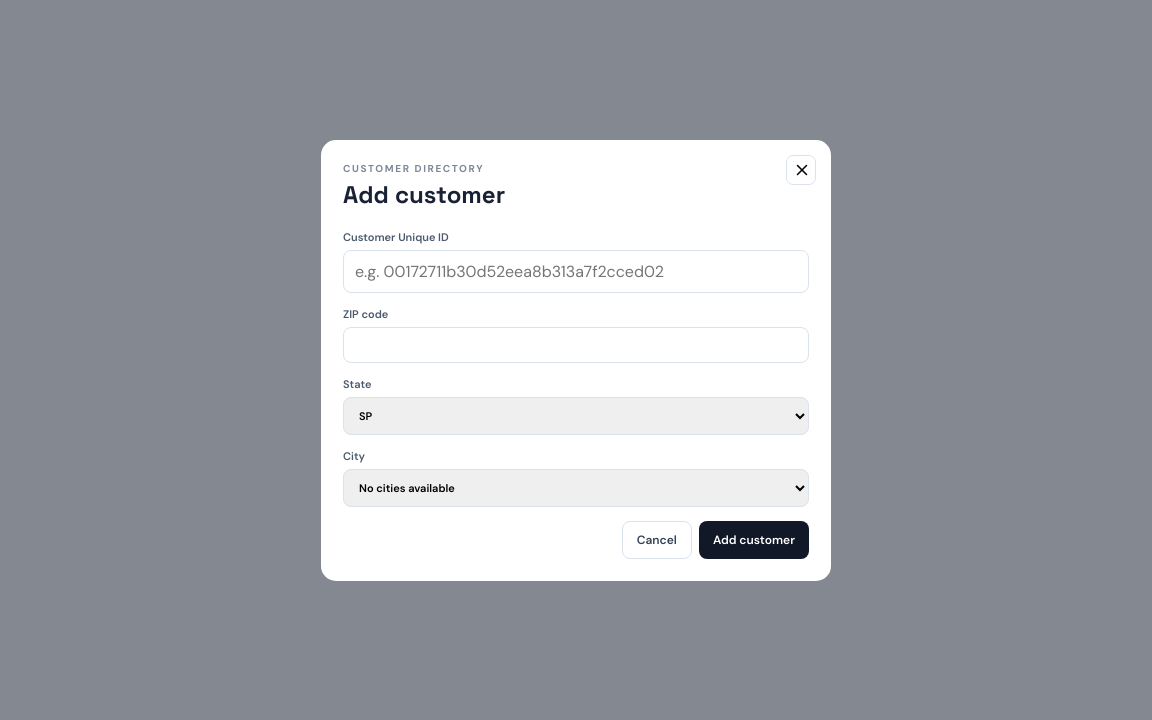
Test: CustomerModal Component › validates zip code and city errors
// Provide UID
Type "uid_new_123" into the field with placeholder "e.g. 00172711b30d52eea8b313a7f2cced02".
click(576, 271); type("uid_new_123")  # box [343,250,809,292]
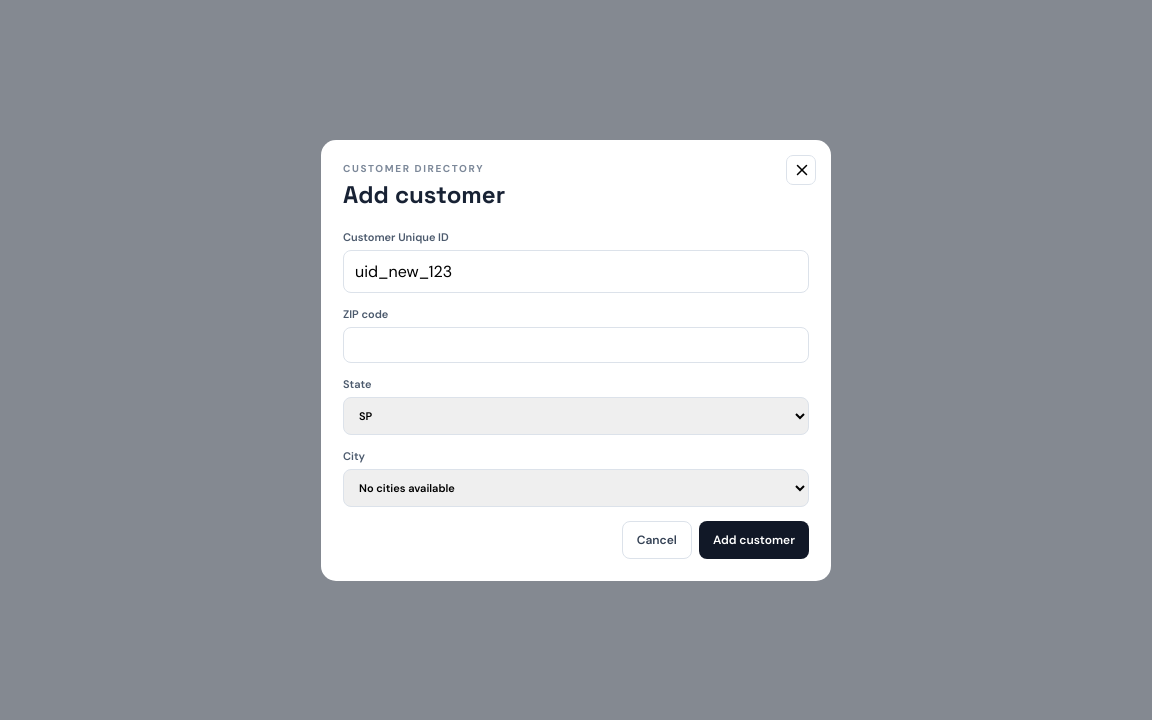
// Empty zip
Submit the form with class "modal", box [321,140,831,580]
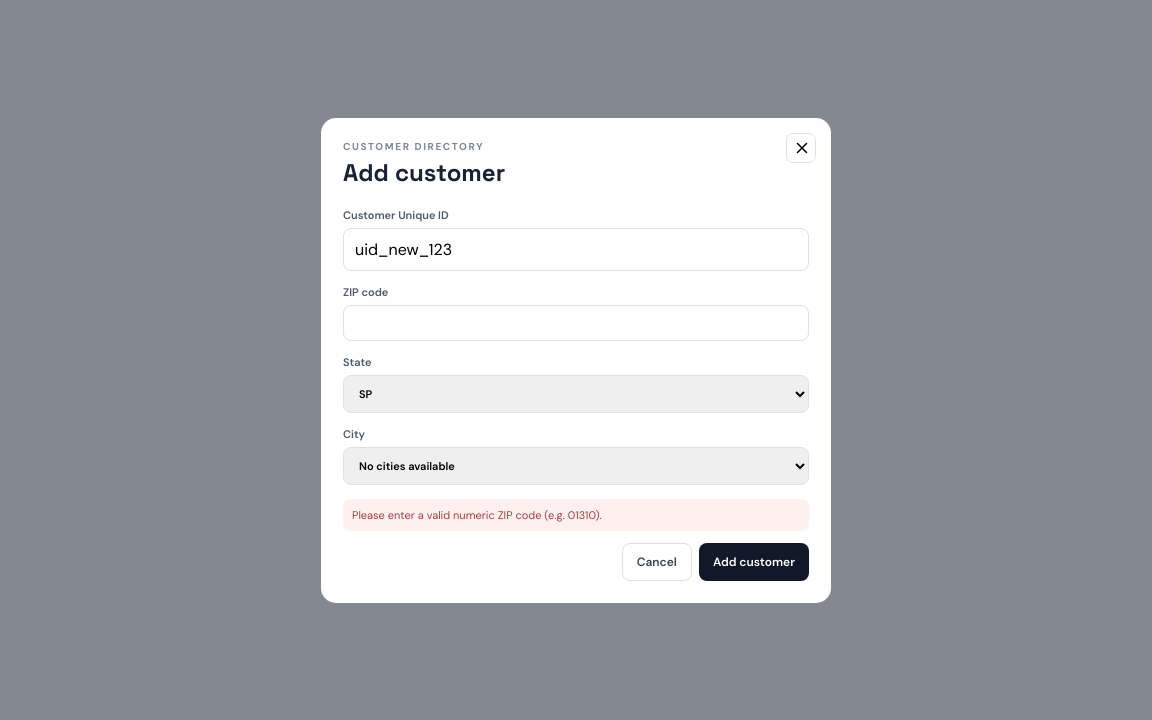
Expected: the text "Please enter a valid numeric ZIP code (e.g. 01310)." is shown, [343,498,809,530]
// Out-of-bounds zip
Type "1000000" into the field labelled "ZIP code".
click(576, 322); type("1000000")  # box [343,304,809,340]
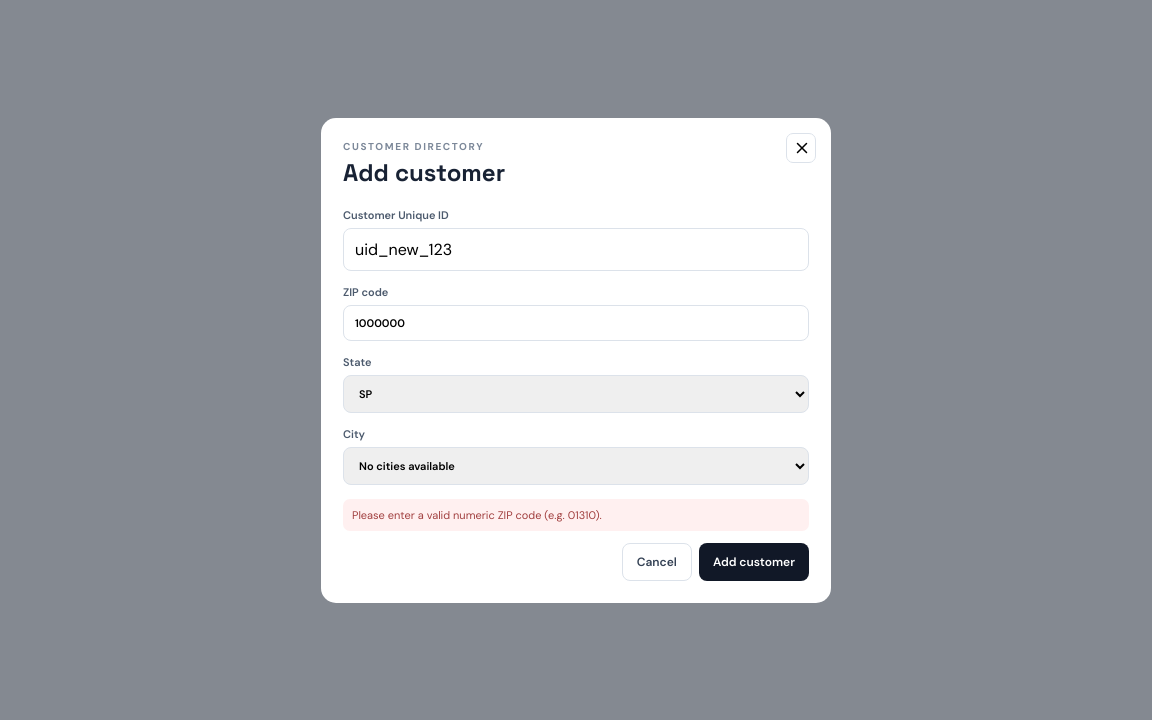
Submit the form with class "modal", box [321,118,831,602]
Expected: the text "Please enter a valid numeric ZIP code (e.g. 01310)." is shown, [343,498,809,530]
// Valid zip, missing city
Replace the text in the field labelled "ZIP code" with "13010" at (576, 322), box [343,304,809,340]
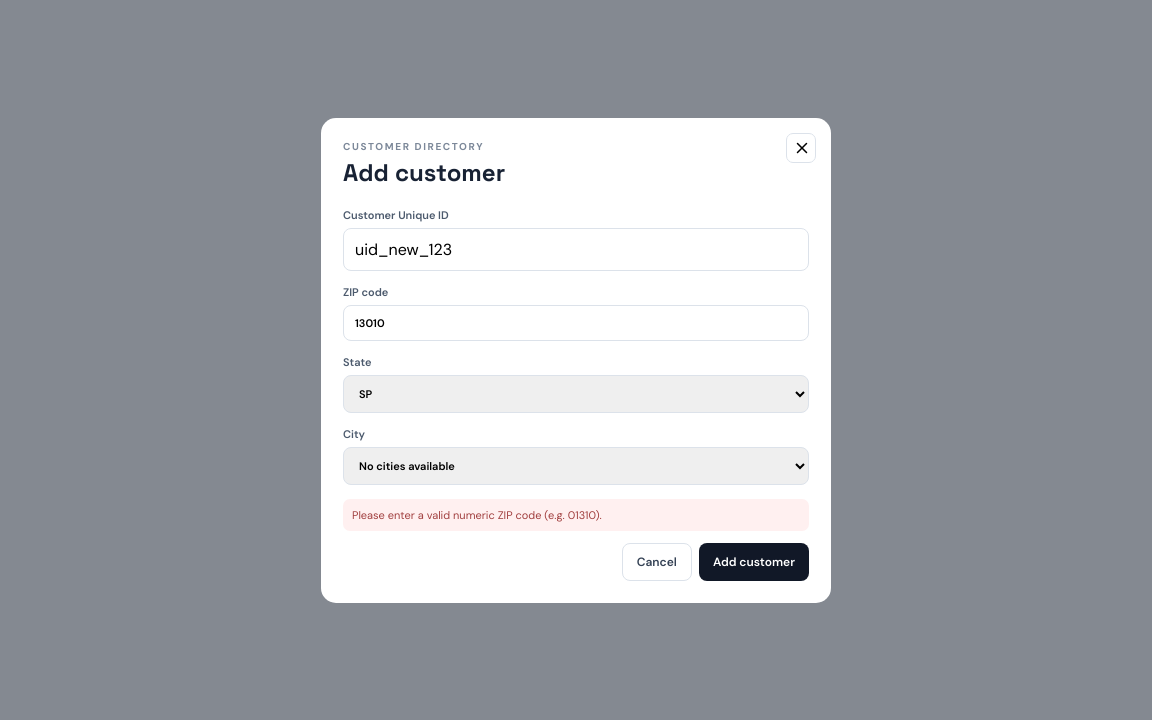
Submit the form with class "modal", box [321,118,831,602]
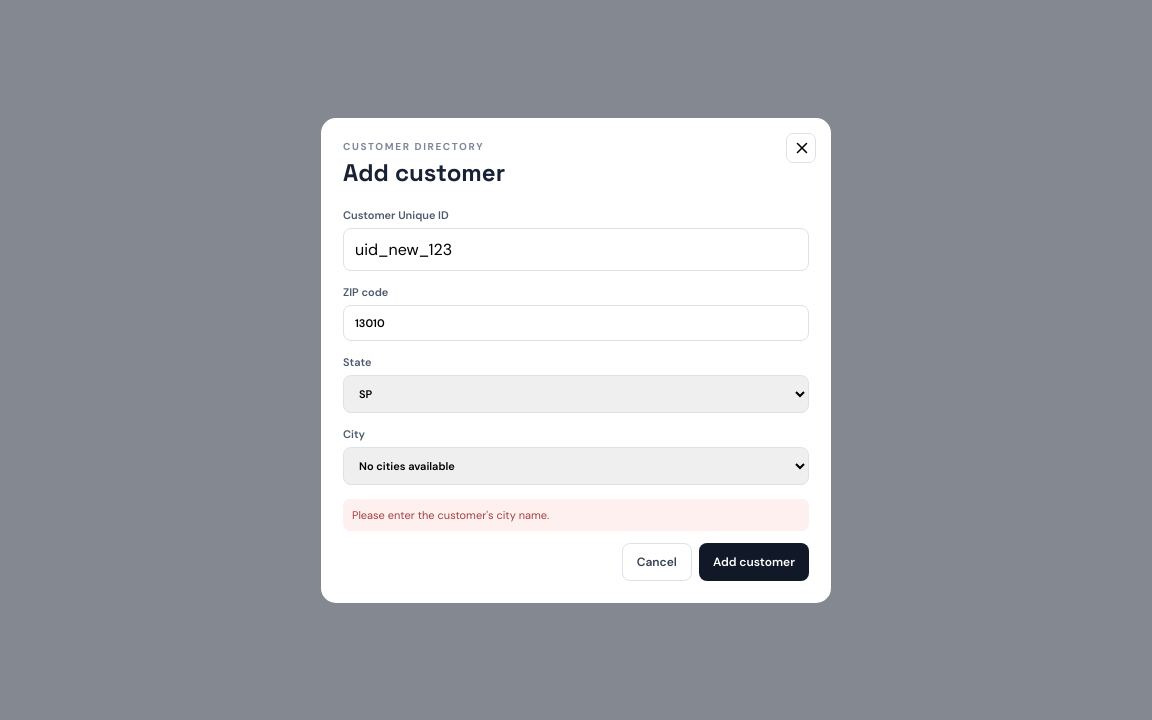
Expected: the text "Please enter the customer's city name." is shown, [343,498,809,530]
